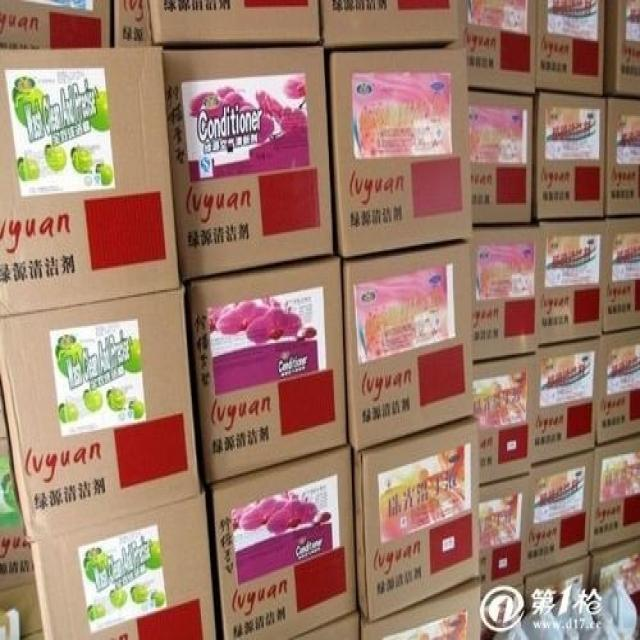box: (0, 285, 201, 546), (0, 48, 179, 319), (163, 44, 333, 278), (187, 254, 347, 486), (330, 49, 472, 261), (212, 445, 356, 640), (342, 242, 475, 451), (29, 495, 216, 640), (355, 415, 479, 620), (525, 447, 596, 575), (536, 89, 605, 220), (472, 227, 539, 360), (532, 338, 603, 463), (474, 352, 536, 490), (470, 90, 532, 224), (540, 220, 603, 345), (456, 0, 538, 96), (150, 0, 320, 44), (362, 577, 480, 640), (479, 471, 531, 602), (534, 0, 604, 96), (0, 389, 33, 592), (321, 0, 458, 48), (588, 433, 640, 551), (596, 324, 640, 445), (603, 217, 640, 335), (605, 101, 640, 218), (605, 0, 640, 96), (0, 579, 44, 640), (593, 544, 640, 594), (292, 611, 358, 640), (115, 0, 155, 46)
